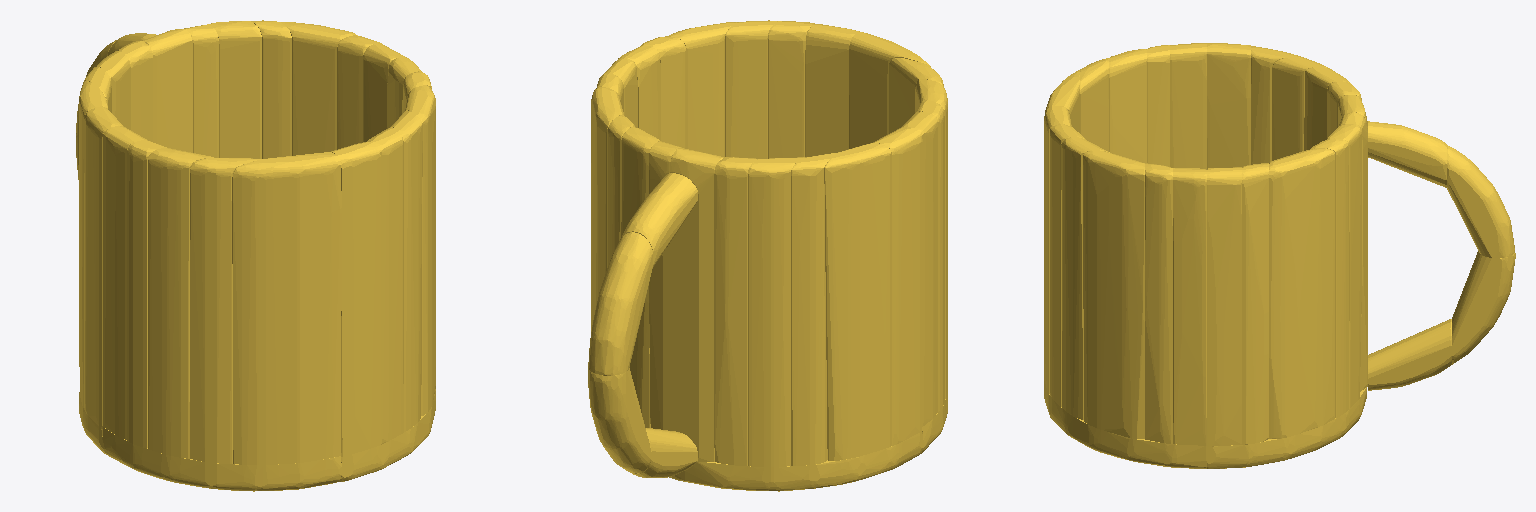
robot.urdf — 474.urdf:
<?xml version="1.0" ?>
<robot name="474.urdf">
	<link name="baseLink">
		<inertial>
			<origin rpy="0 0 0" xyz="0 0 0"/>
				<mass value="0.1"/>
				<inertia ixx="6e-5" ixy="0" ixz="0" iyy="6e-5" iyz="0" izz="6e-5"/>
		</inertial>
		<visual>
			<origin rpy="0 0 0" xyz="0 0 0"/>
			<geometry>
				<mesh filename="42_decom_wt.obj" scale="1.08 1.08 1.02"/>
			</geometry>
			<material name="yellow">
				<color rgba="0.98 0.84 0.35 1"/>
			</material>
		</visual>
		<collision>
			<origin rpy="0 0 0" xyz="0 0 0"/>
			<geometry>
				<mesh filename="42_decom_wt.obj" scale="1.08 1.08 1.02"/>
			</geometry>
		</collision>
	</link>
</robot>

--- What the picture shows (computed from the rendered views, not written in the file) ---
3 views of the same robot in one strip: view 1: azimuth 30°, elevation 25°; view 2: azimuth 150°, elevation 25°; view 3: azimuth 270°, elevation 25° (orthographic).
Model 474.urdf with 1 links and 0 joints (none), rooted at baseLink, posed all joints at 0.
Visible links, largest first — view 1: baseLink; view 2: baseLink; view 3: baseLink.
Boxes of the visible links, x1=… form: baseLink: x1=76, y1=20, x2=435, y2=491; baseLink: x1=588, y1=20, x2=947, y2=491; baseLink: x1=1044, y1=43, x2=1515, y2=468.
Bounding box of the posed robot: 0.091 × 0.1327 × 0.0925 m (x, y, z).
Meshes: 1 distinct files referenced, 1 mesh visuals loaded (1 OBJ).